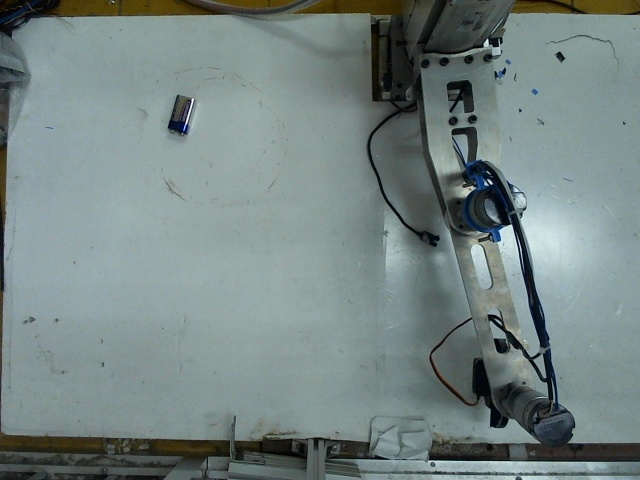battery: (166, 88, 194, 133)
